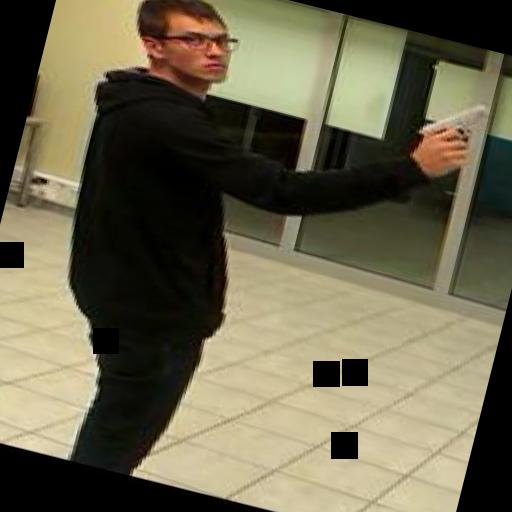Handgun: (410, 88, 492, 163)
